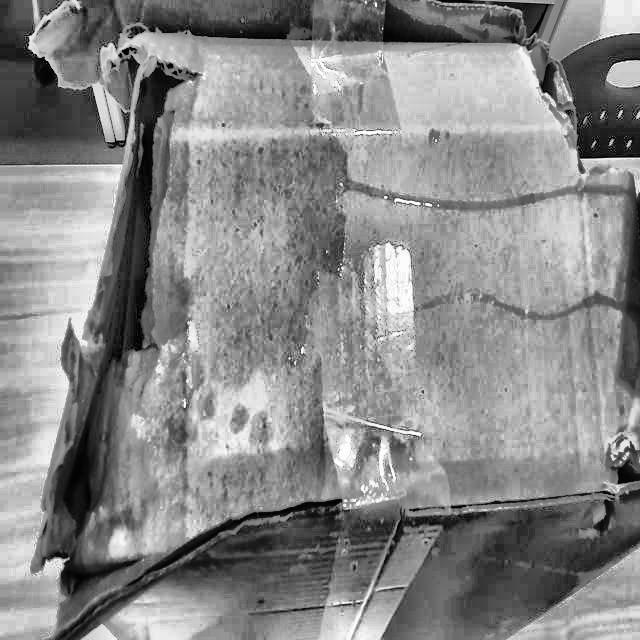box: (1, 0, 639, 638)
hole: (41, 49, 187, 579)
wet: (75, 43, 352, 595)
